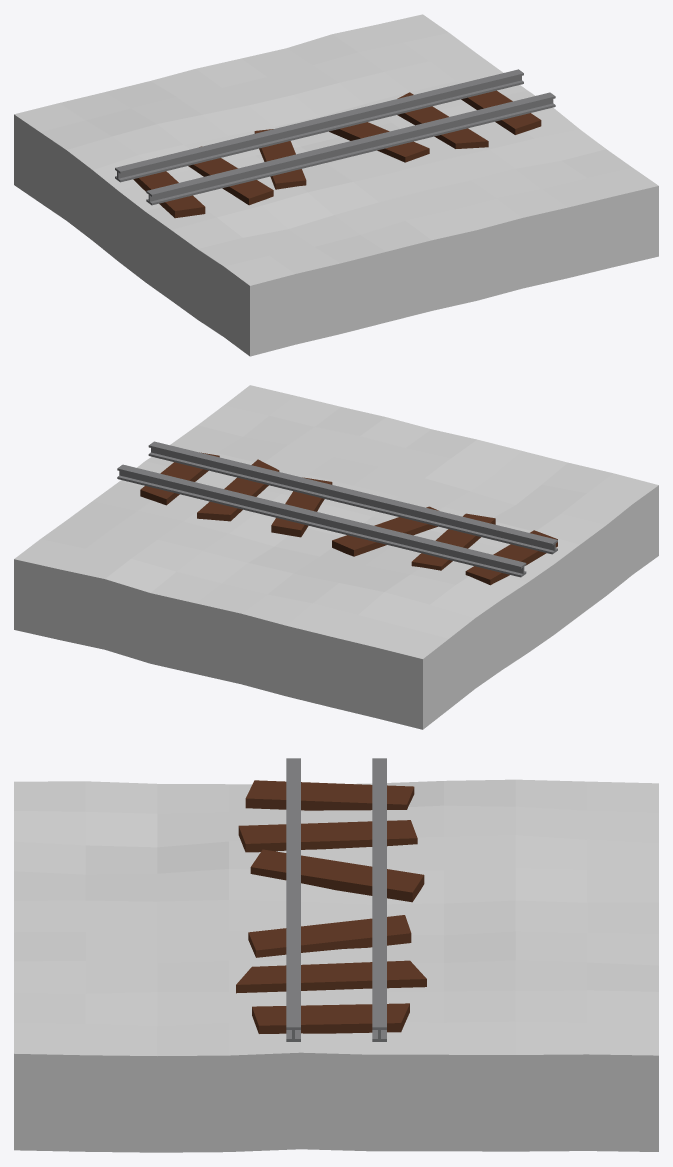
3 renders of one model, top to bottom at view 1: azimuth 30°, elevation 25°; view 2: azimuth 150°, elevation 25°; view 3: azimuth 270°, elevation 25°, orthographic. The views are drawn at different scales.
Visible parts, largest first — view 1: Node_1_Ground, Node_1; view 2: Node_1_Ground, Node_1; view 3: Node_1_Ground, Node_1.
Part boxes in pixels (x1,y1,x2,y2): Node_1_Ground: (14, 14, 658, 356); Node_1: (115, 69, 555, 218); Node_1_Ground: (14, 385, 658, 729); Node_1: (117, 441, 557, 585); Node_1_Ground: (14, 779, 658, 1152); Node_1: (236, 758, 426, 1041).
Size of the model in its own units: 118 by 25.07 by 118.
